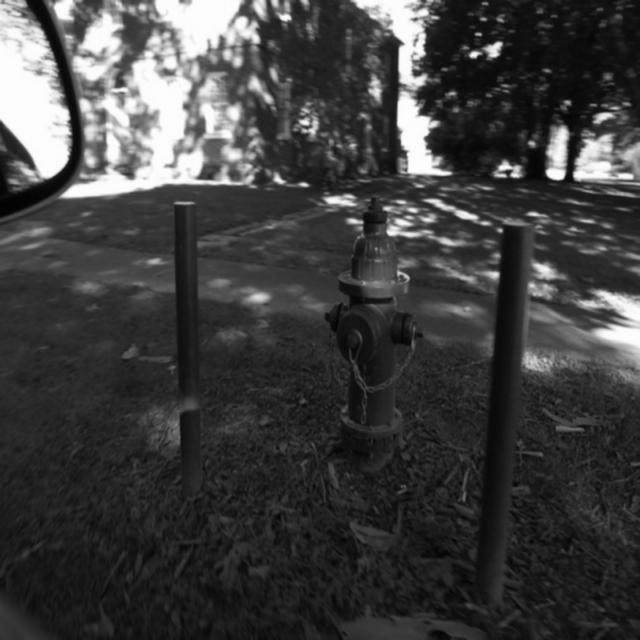fire_hydrant: (323, 195, 425, 452)
warning_column: (464, 217, 538, 607), (169, 198, 207, 502)
